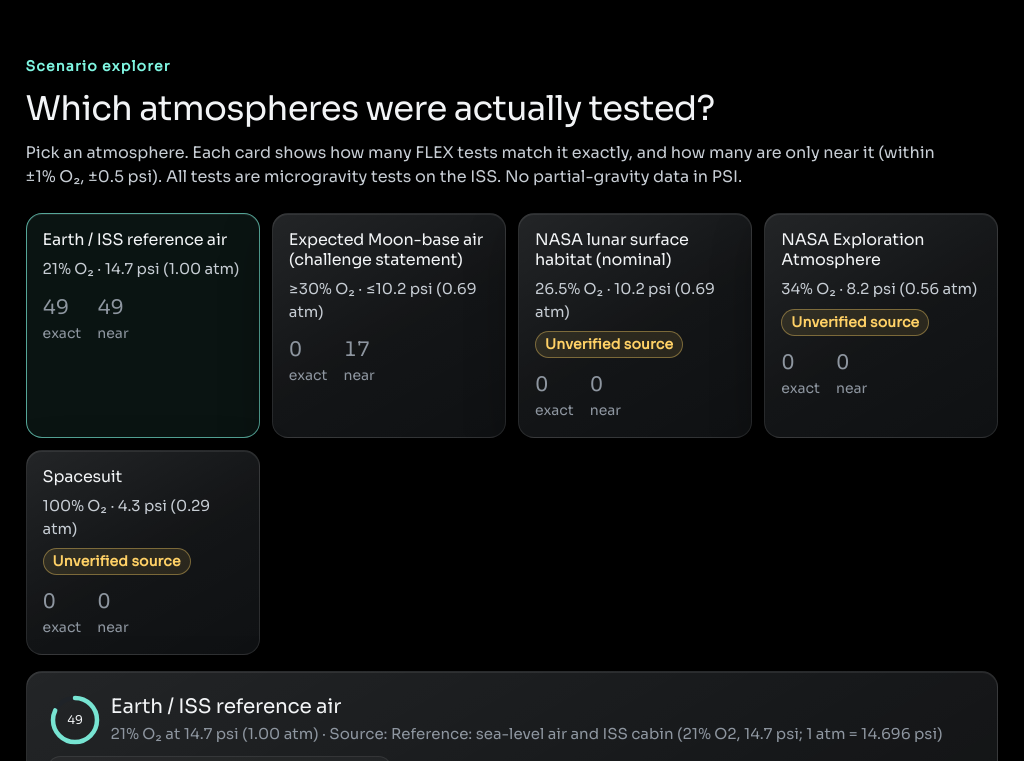
scenario explorer › lunar case shows 0 exact and 17 near separately, and never calls the tests lunar
Click the button "Expected Moon-base air" at (389, 326), box [272, 213, 506, 438]
(page scrolled)
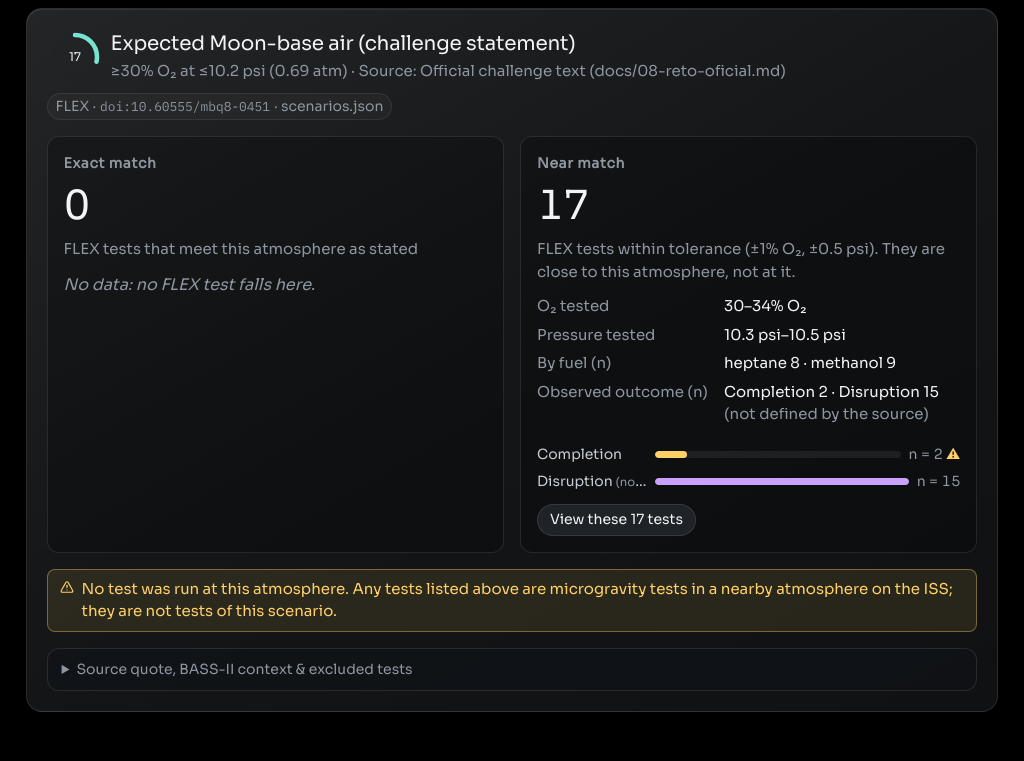
Expected: the text "0" is shown, [64, 180, 185, 231]
Expected: the text "17" is shown, [537, 180, 684, 231]
Expected: the text "they are not tests of this scenario" is shown, [82, 579, 953, 620]
